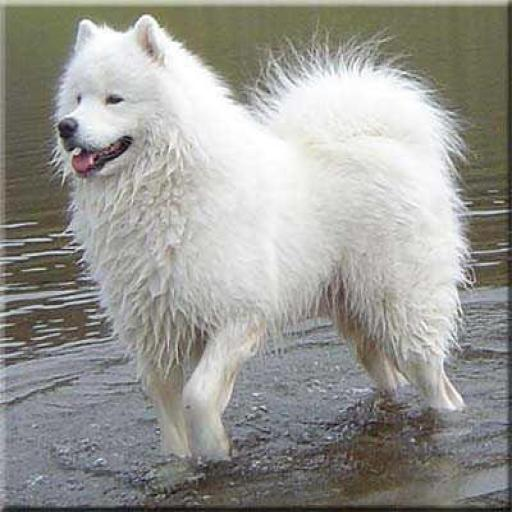dog_face: (46, 18, 172, 189)
